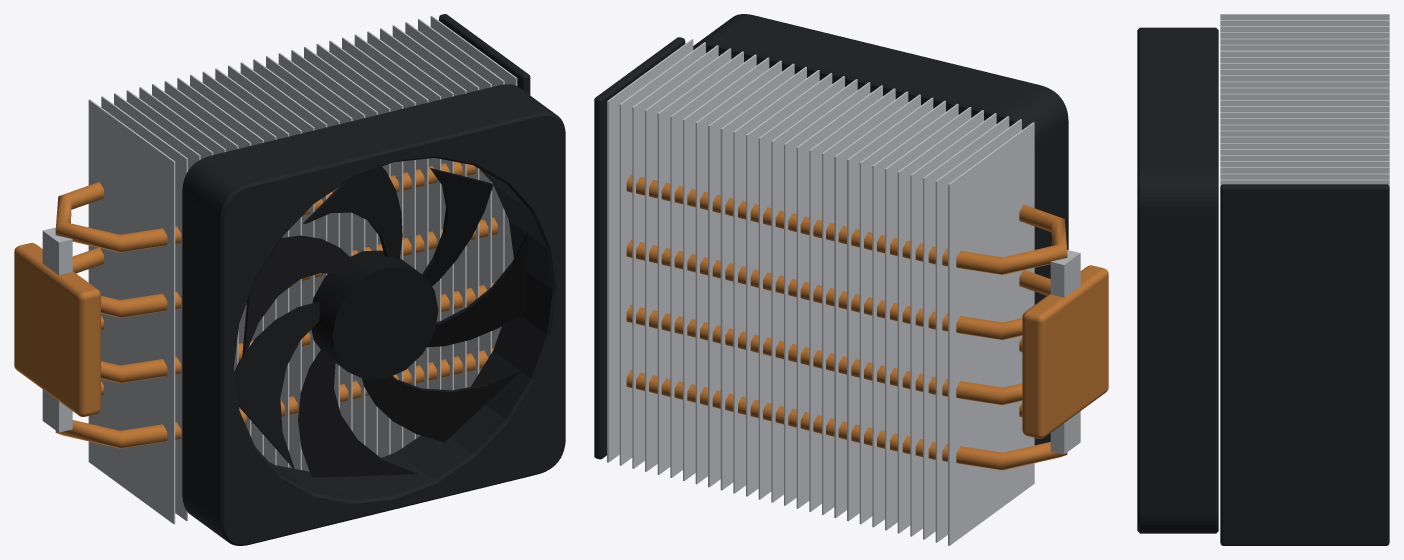
Rendered from cooler-single-tower-v1.lod1.glb.
The picture shows the model from 3 angles, left to right: view 1: azimuth 30°, elevation 25°; view 2: azimuth 150°, elevation 25°; view 3: azimuth 270°, elevation 25°; orthographic projection.
Parts seen in each view (by area): view 1: fan_0__mesh, fin_stack_0__mesh, base__mesh, heatpipes__mesh, top_cover_0__mesh; view 2: fin_stack_0__mesh, heatpipes__mesh, fan_0__mesh, base__mesh, top_cover_0__mesh; view 3: top_cover_0__mesh, fan_0__mesh, fin_stack_0__mesh.
Boxes of the visible parts, <box> form: fan_0__mesh: <box>182,84,565,545</box>; fin_stack_0__mesh: <box>88,16,517,524</box>; base__mesh: <box>14,227,100,432</box>; heatpipes__mesh: <box>55,161,497,448</box>; top_cover_0__mesh: <box>439,14,530,94</box>; fin_stack_0__mesh: <box>607,39,1034,545</box>; heatpipes__mesh: <box>626,174,1067,470</box>; fan_0__mesh: <box>693,14,1068,445</box>; base__mesh: <box>1022,250,1108,454</box>; top_cover_0__mesh: <box>594,37,685,459</box>; top_cover_0__mesh: <box>1220,184,1389,545</box>; fan_0__mesh: <box>1137,27,1218,533</box>; fin_stack_0__mesh: <box>1220,14,1389,186</box>.
Bounding box in the file's own units: 0.156 × 0.122 × 0.0775.
